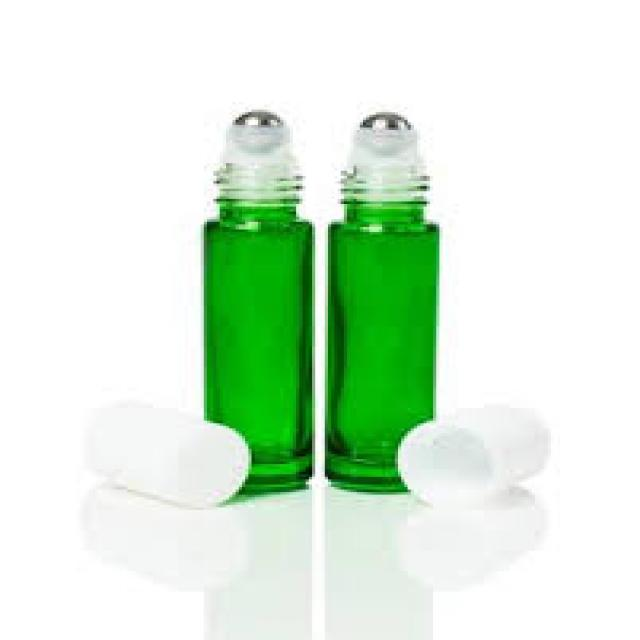Glass: (192, 110, 320, 490), (324, 109, 447, 494)
Plastic: (390, 396, 558, 516), (85, 398, 258, 513)
